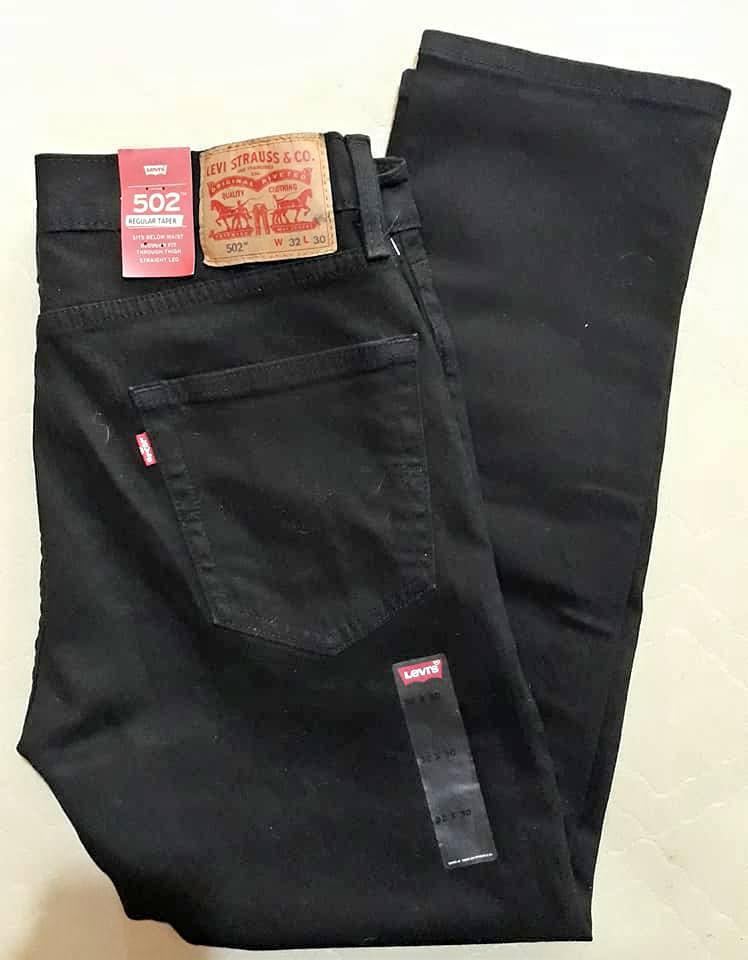jeans: (0, 20, 748, 960)
